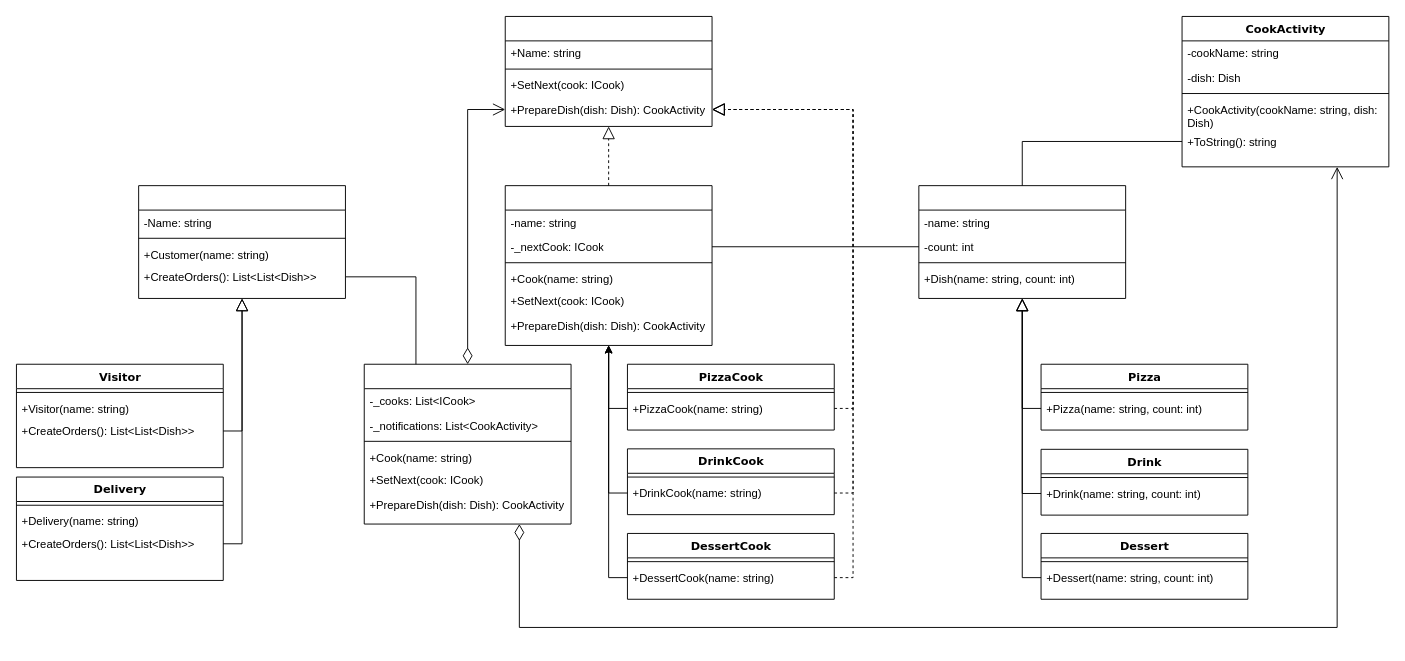
Image size: 1405x661. Some labels were removed from this diagram. The shapes that lost their labels are listed below. From the top down, each one's box as (x1, y1, x2, y2) in pixels, then its label:
(504, 16, 712, 126): <<interface>> ICook
(138, 185, 345, 298): <<abstract>> Customer
(918, 185, 1126, 298): <<abstract>> Dish
(504, 185, 712, 345): <<abstract>> Cook
(363, 363, 571, 524): Chef
